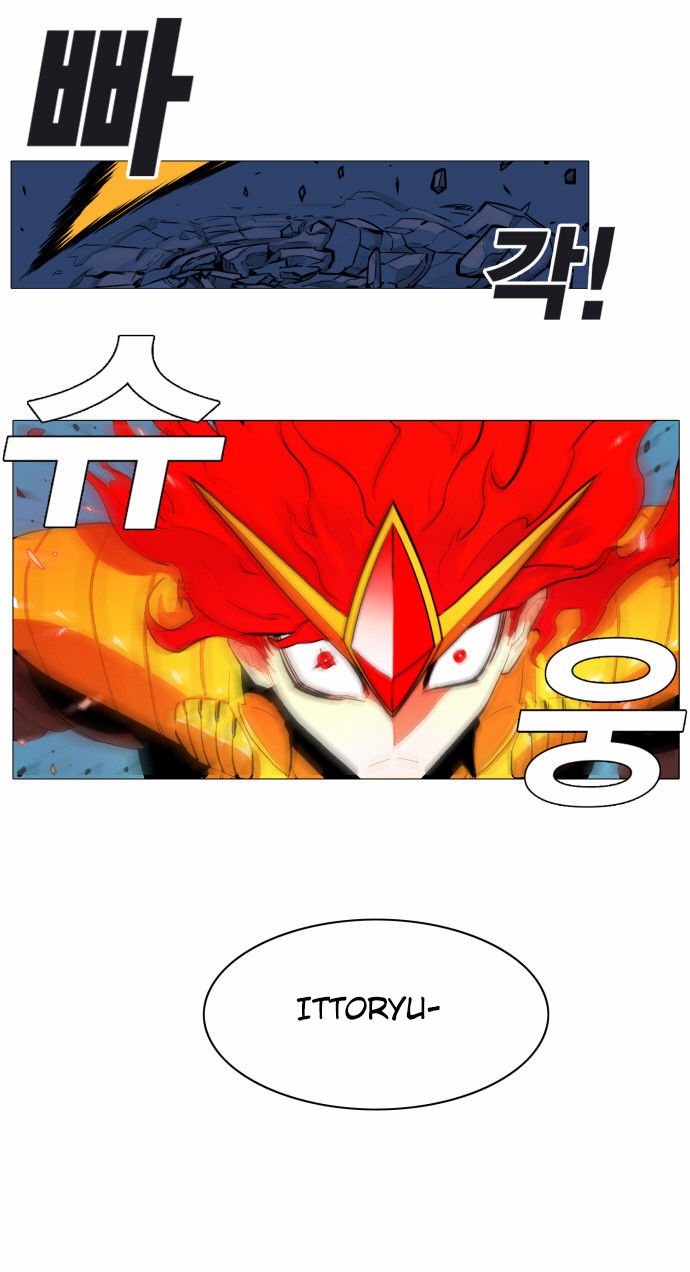bubble: (206, 919, 549, 1110)
